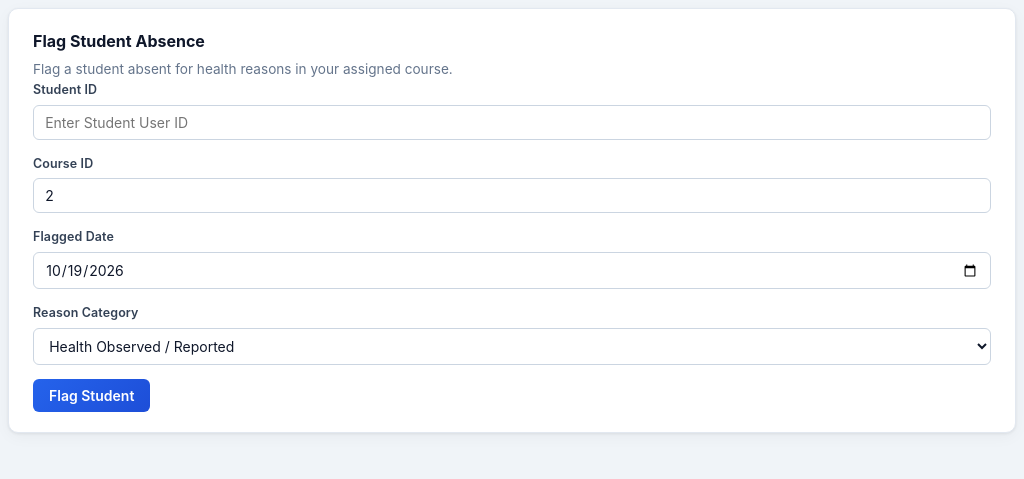
Test: Faculty Components › AbsenceFlagForm › displays error message on submission error
This screenshot has width=1024, height=479.
In the field labelled "Student ID": (512, 122) [33, 104, 991, 140], type "15"
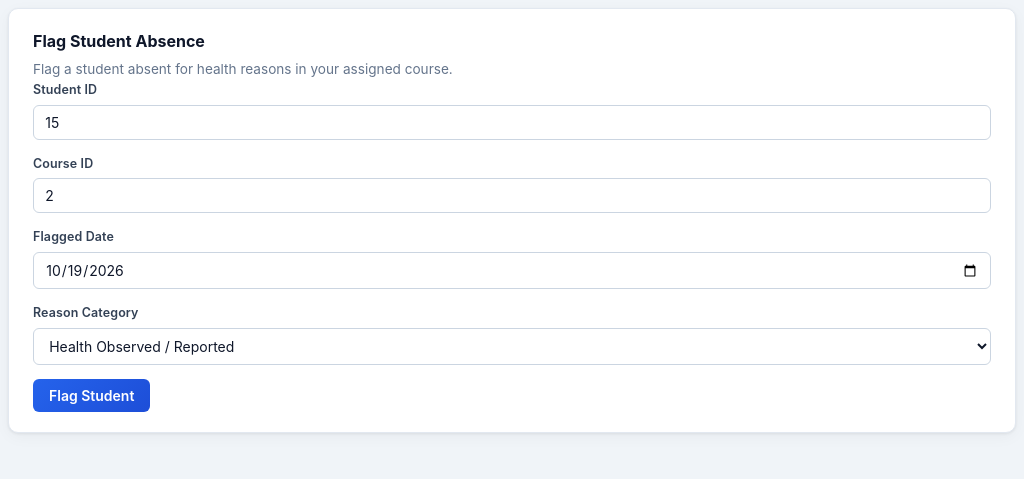
Click the button "Flag Student": click(92, 395) [33, 379, 150, 412]
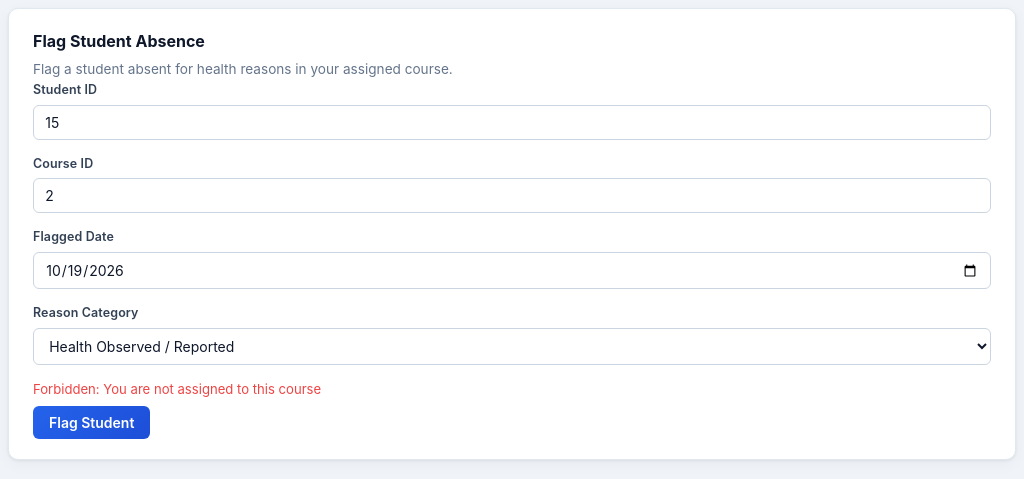
Result: the message reads "Forbidden: You are not assigned to this course" at [33, 381, 321, 397]
